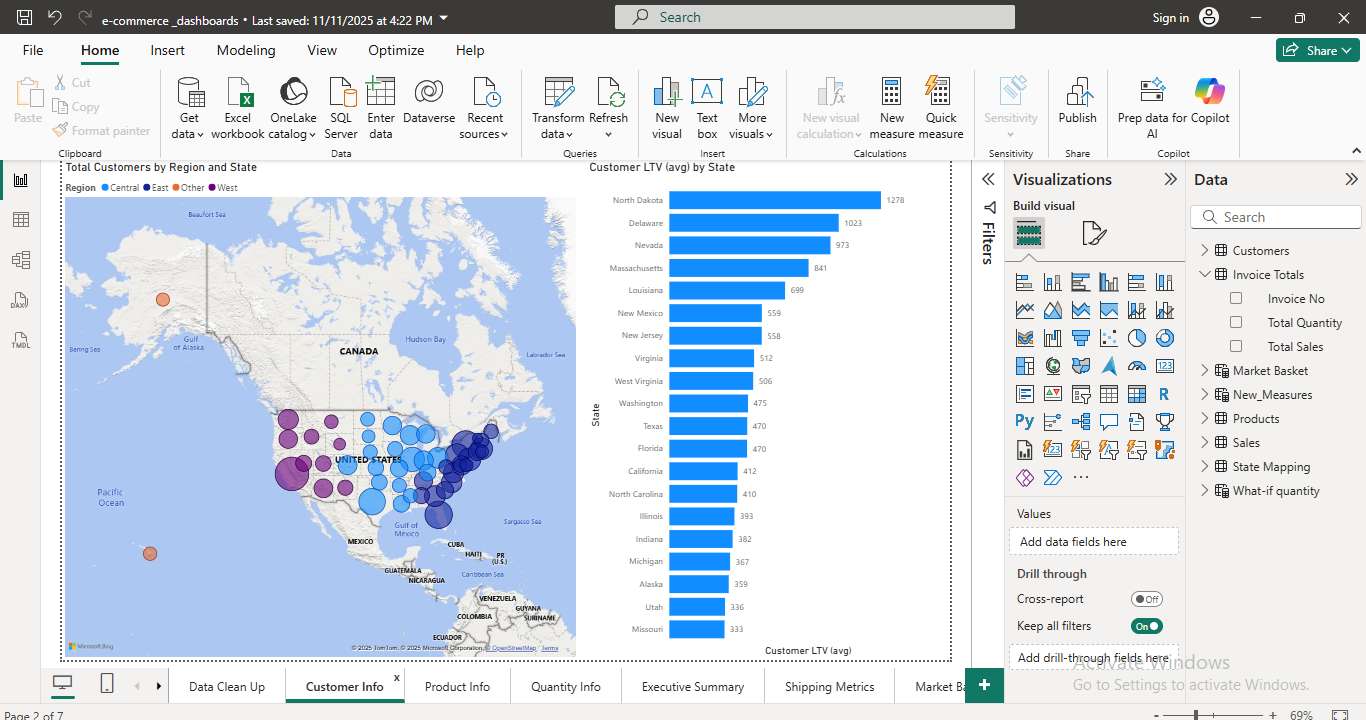

Layout of this report page (visuals, bound fields, positions):
{"tool":"powerbi","page":{"name":"Customer Info","canvas":[1280,720],"ordinal":1},"visuals":[{"type":"map","title":"Total Customers by Region and State","fields":{"Size":["New_Measures.Number of Customers"],"Series":["State Mapping.Region"],"Category":["State Mapping.State"]},"box":[0,0,744.8,720.3],"z":0},{"type":"barChart","fields":{"Category":["State Mapping.State"],"Y":["New_Measures.Customer LTV (avg)"]},"box":[755,0,525,720],"z":1000}]}

Visuals, with their boxes on the page's 1280x720 design canvas (x1, y1, x2, y2). These are canvas units, not pixel positions in the 1366x720 screenshot, which may show the page scaled, cropped or inside an application window:
"Total Customers by Region and State" map: region(0, 0, 745, 720)
barChart - State Mapping.State x New_Measures.Customer LTV (avg): region(755, 0, 1280, 720)
